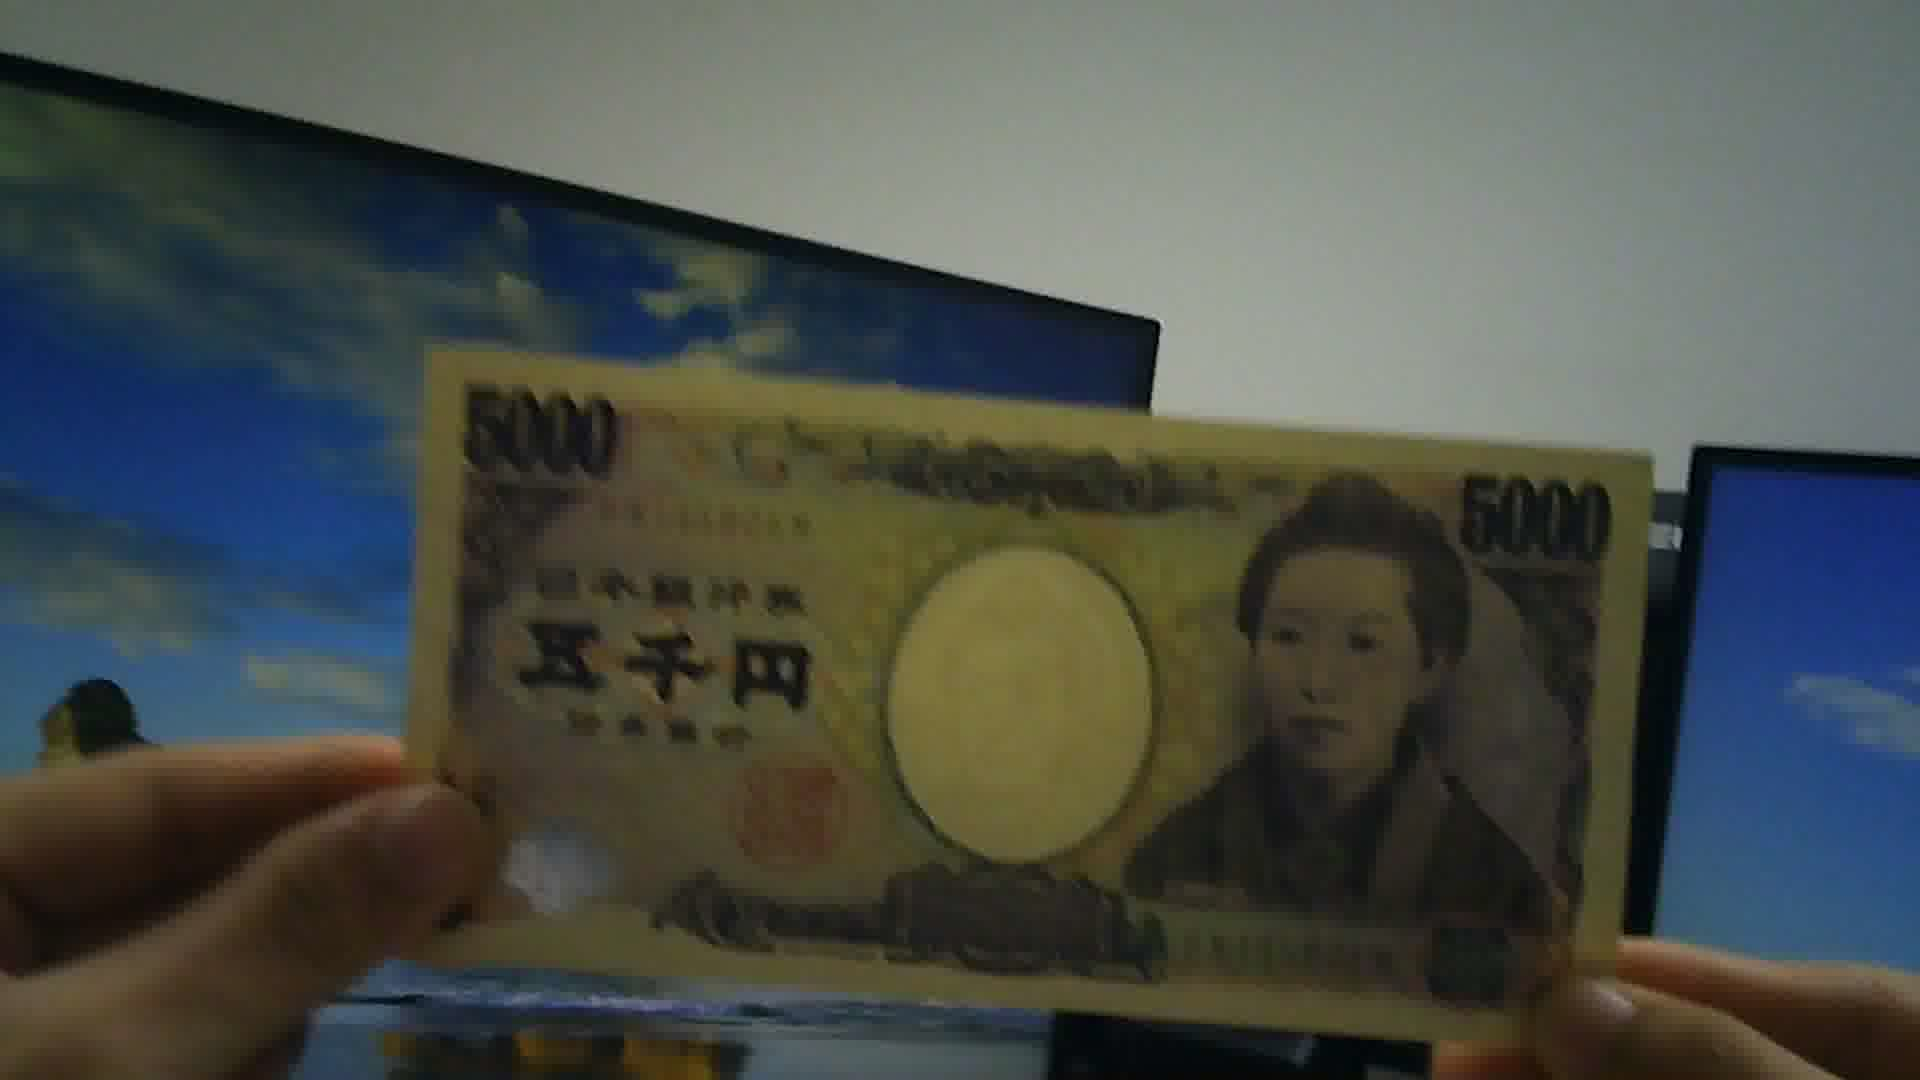5,000 Yen: (419, 356, 1635, 1033)
